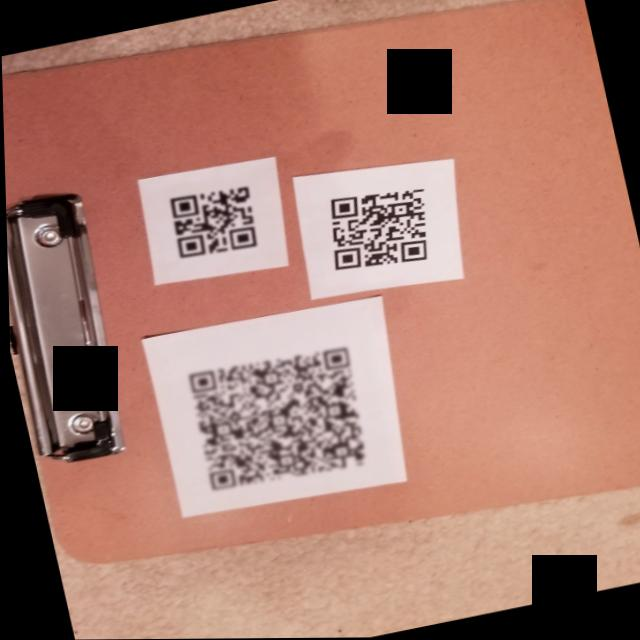QR_CODE: (166, 333, 390, 510), (306, 170, 453, 290), (148, 171, 271, 277)
